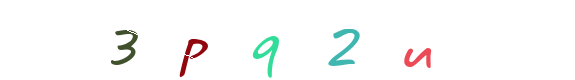2: (260, 0, 340, 80)
3: (86, 0, 166, 80)
P: (152, 0, 232, 80)
Q: (248, 0, 328, 80)
U: (337, 0, 417, 80)
